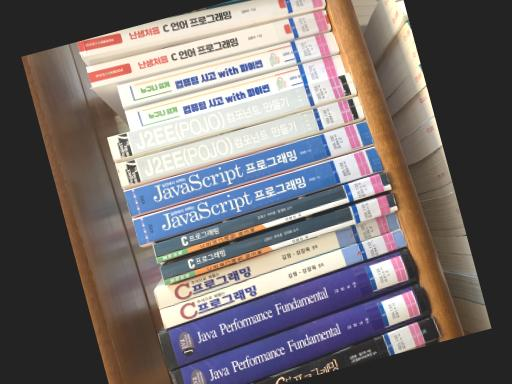book-spine: (158, 247, 418, 368), (169, 282, 431, 384), (132, 145, 383, 243), (159, 228, 406, 327), (123, 119, 374, 215), (153, 210, 400, 307), (115, 94, 365, 187), (107, 71, 357, 159), (159, 193, 396, 279), (152, 171, 389, 255), (86, 8, 331, 86), (163, 204, 398, 283), (155, 183, 391, 260), (124, 52, 345, 129), (116, 30, 339, 105), (77, 0, 326, 55), (248, 315, 440, 384)
